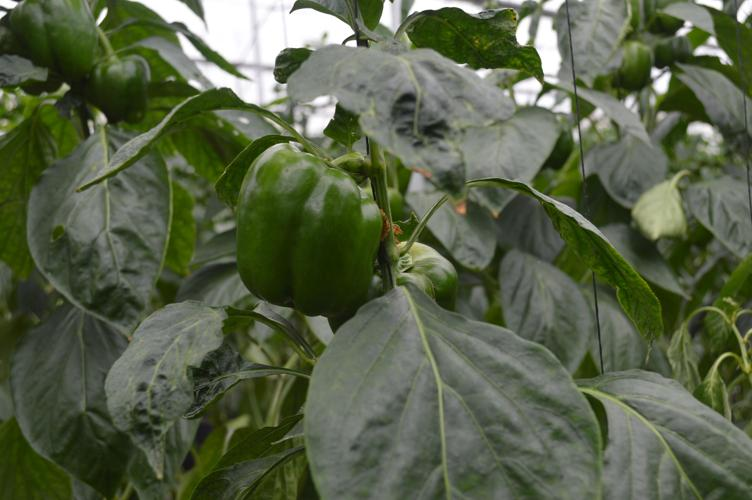BellPepper: (220, 142, 387, 328), (91, 47, 152, 129)
